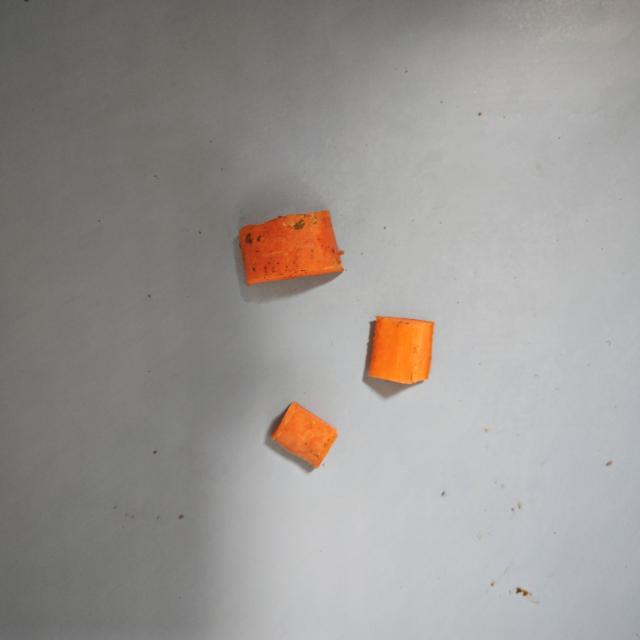-Kitchen waste - carrot-: (238, 204, 344, 290), (366, 308, 439, 393), (268, 398, 338, 472)
